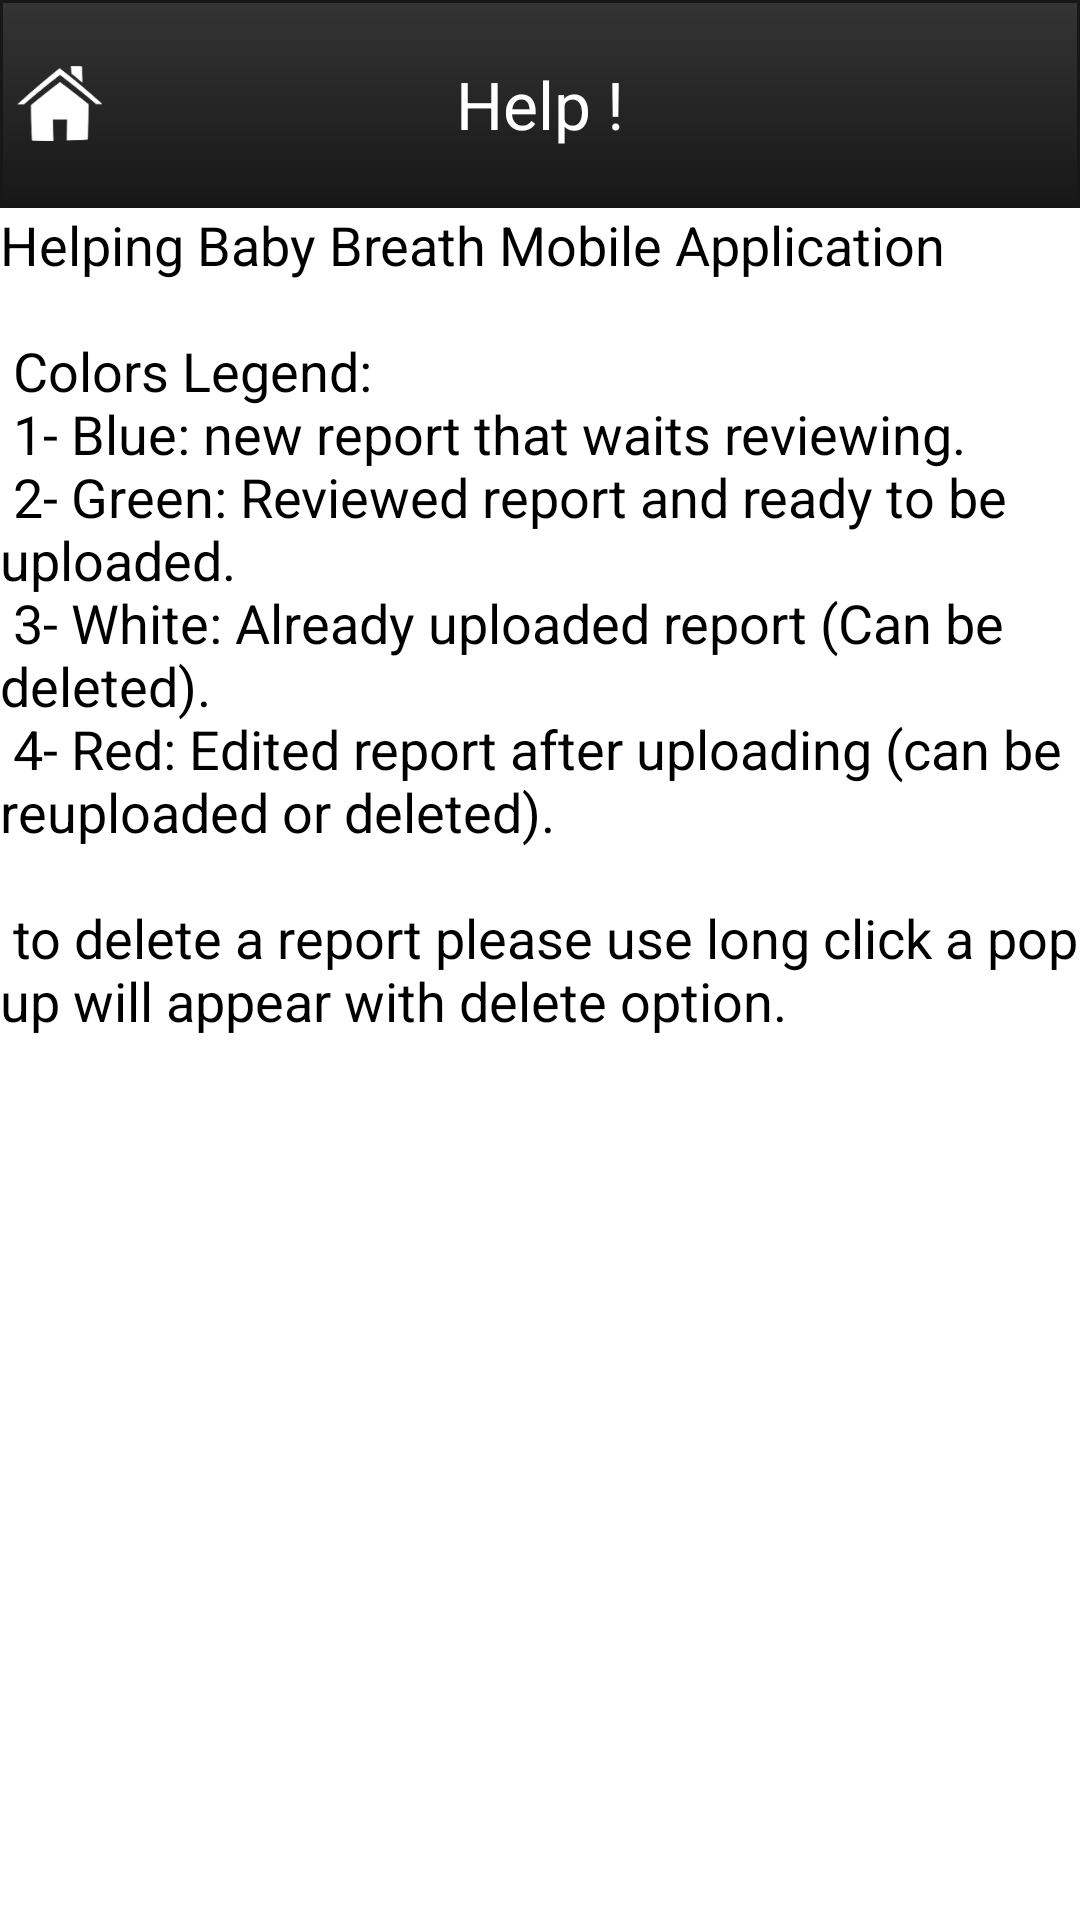

Where icons sit on this 1080 x 1920 app screen, as (x1, y1, x2, y2):
Home: (17, 66, 102, 141)
